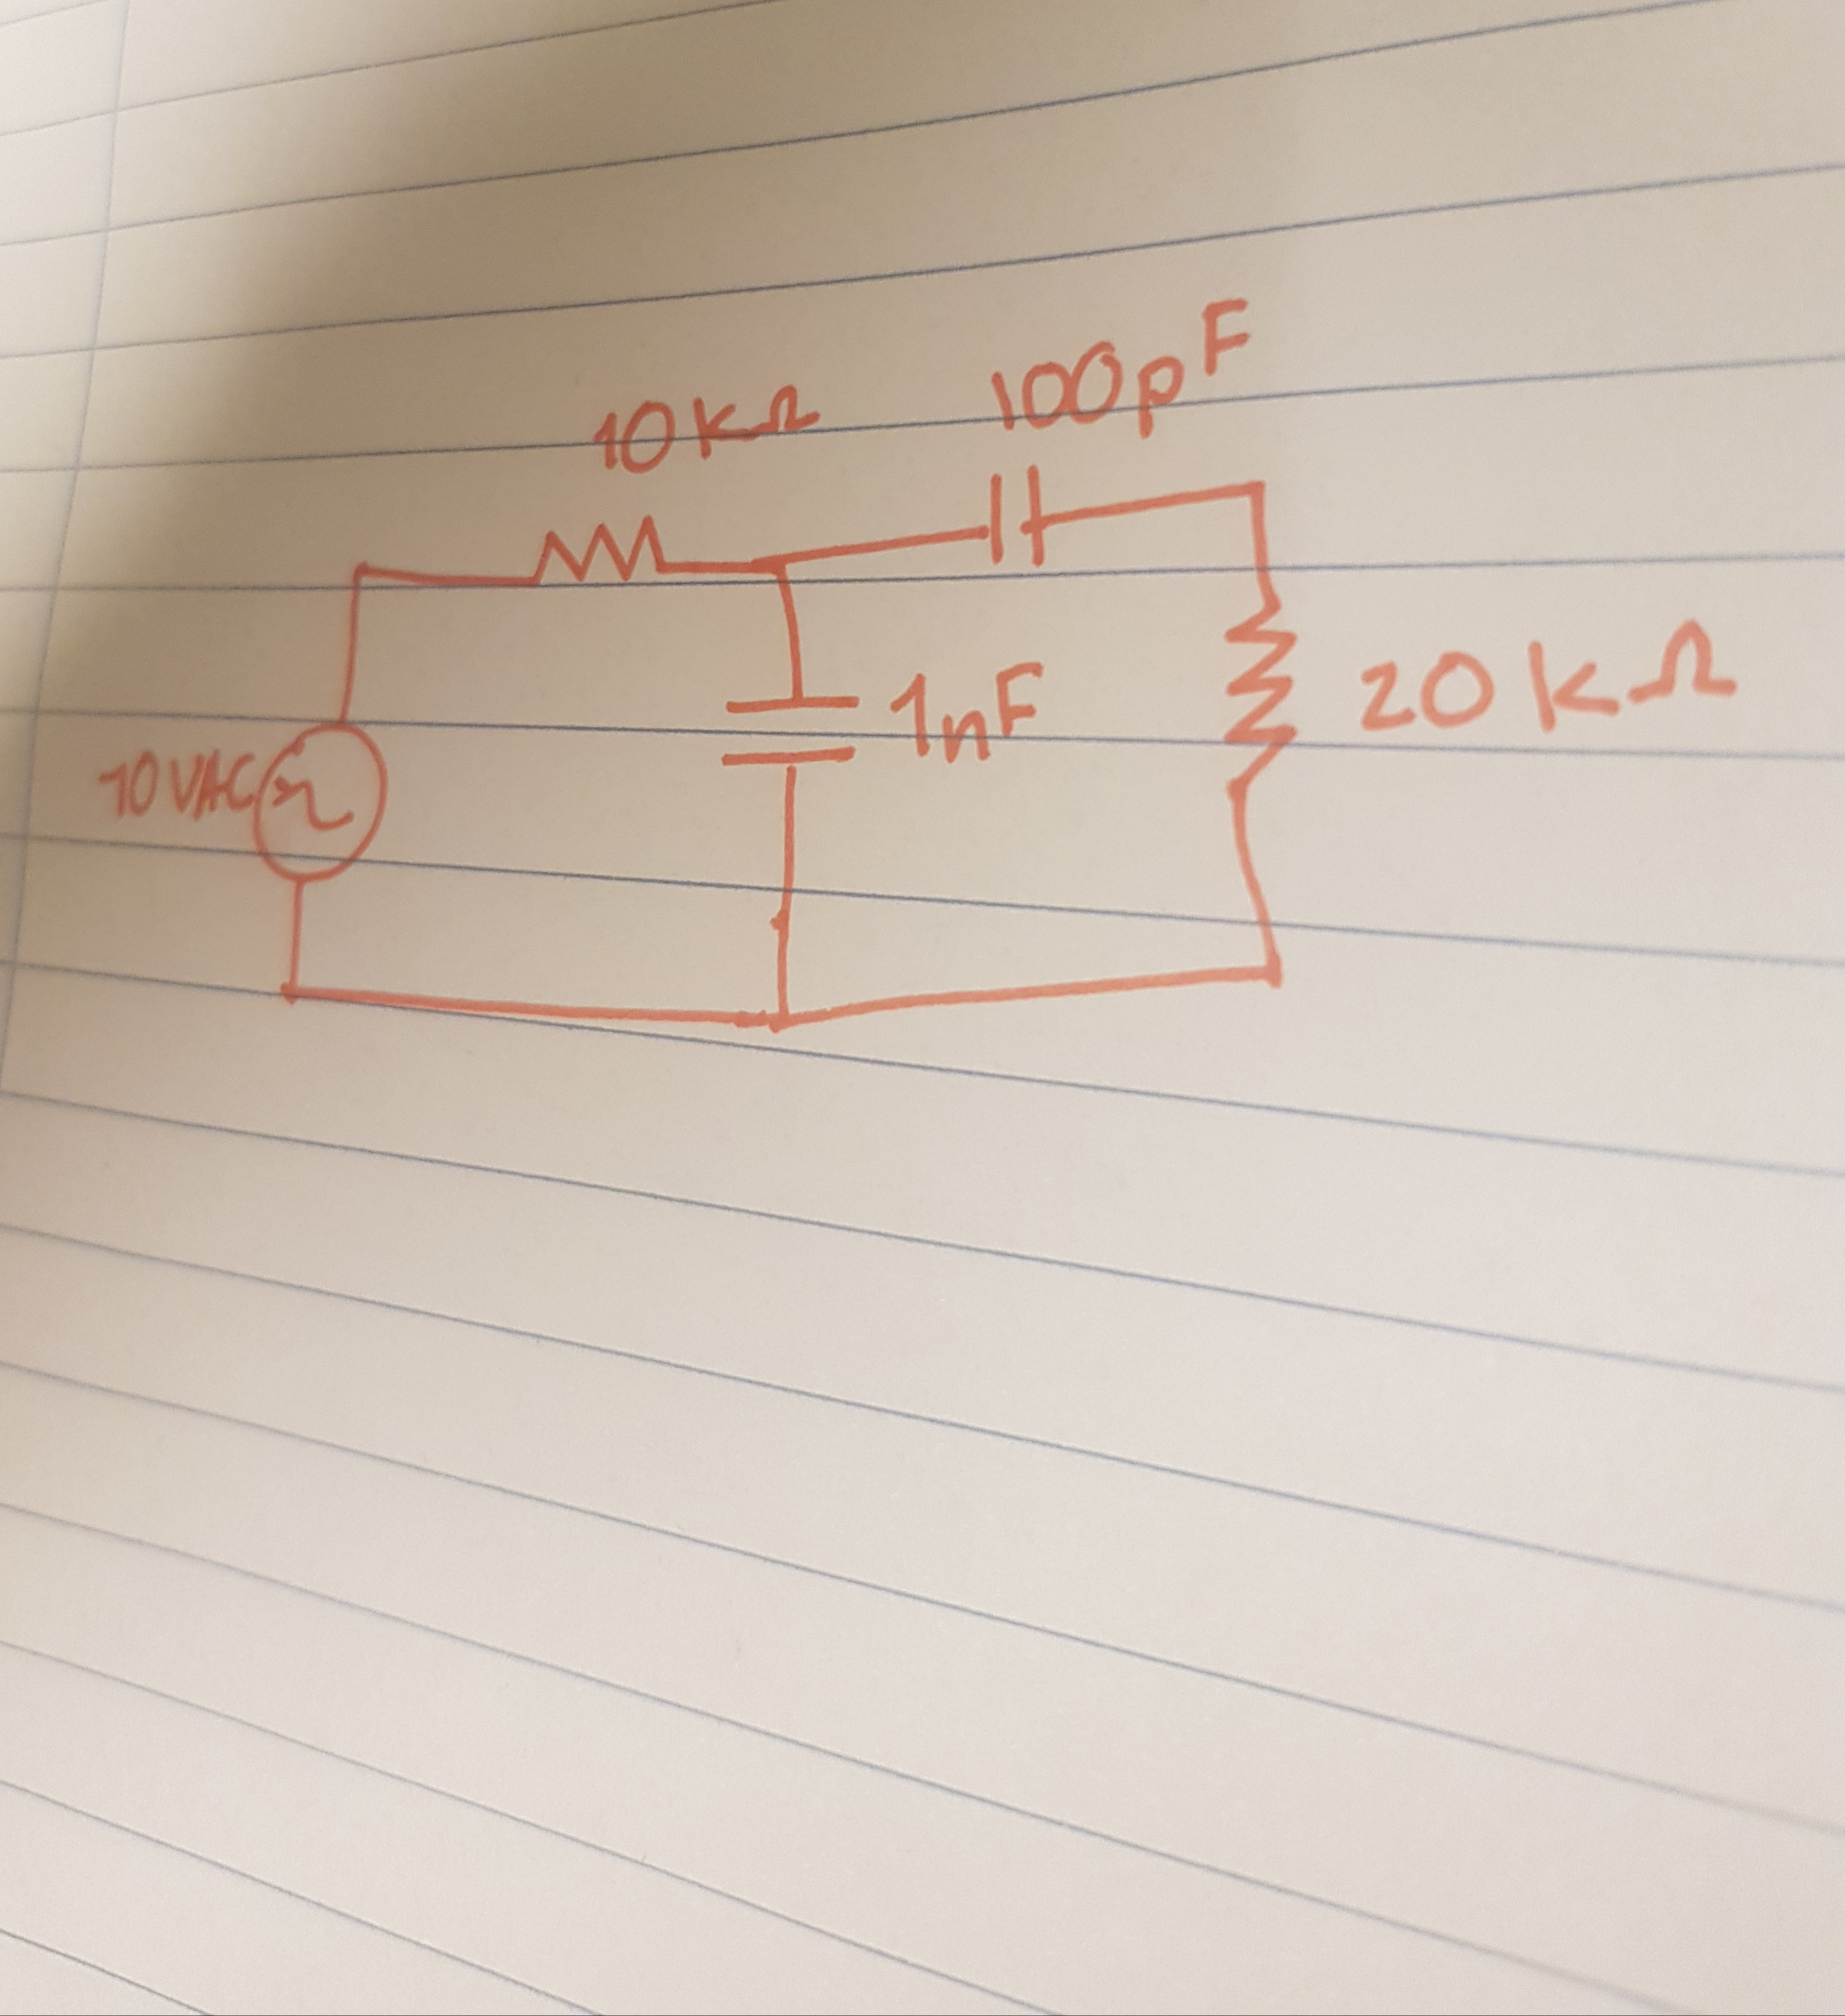capacitor.unpolarized: (714, 674, 872, 792), (973, 451, 1059, 595)
junction: (753, 982, 811, 1048), (1232, 941, 1301, 997), (755, 537, 811, 592), (1229, 465, 1287, 515), (341, 550, 390, 601), (270, 964, 314, 1017)
resistor: (1217, 604, 1313, 792), (532, 508, 665, 601)
text: (1341, 615, 1743, 739), (981, 290, 1257, 439), (588, 381, 823, 481), (887, 655, 1057, 762), (88, 741, 260, 825)
voltage.dc: (239, 722, 397, 882)
